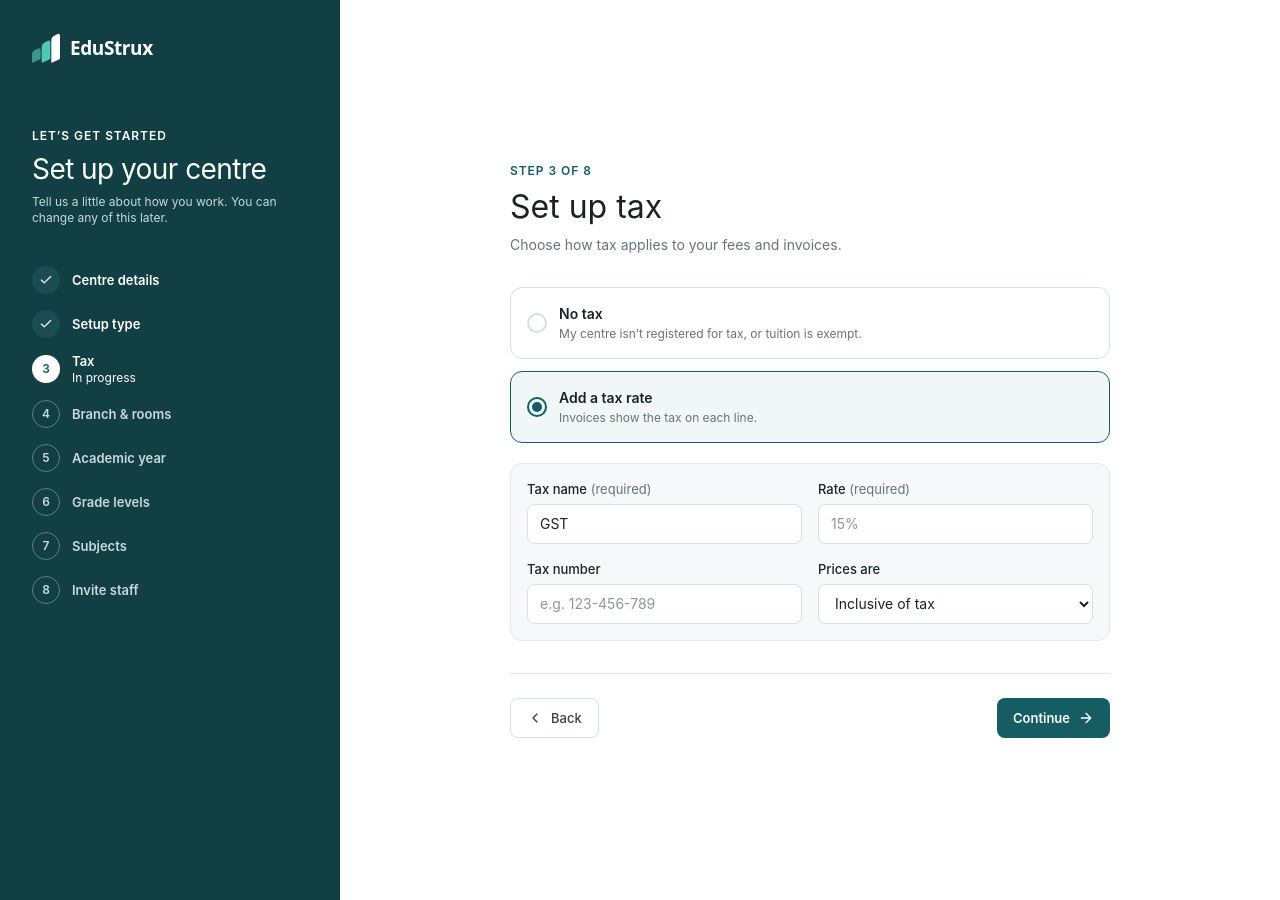
Test case: the setup wizard › adds the default tax rate and the tax number
Expected: the field labelled "Tax name (required)" holds "GST", x1=527 y1=504 x2=802 y2=544
Step 1. Type "lots" into the field labelled "Rate (required)" → (956, 524), box x1=818 y1=504 x2=1093 y2=544
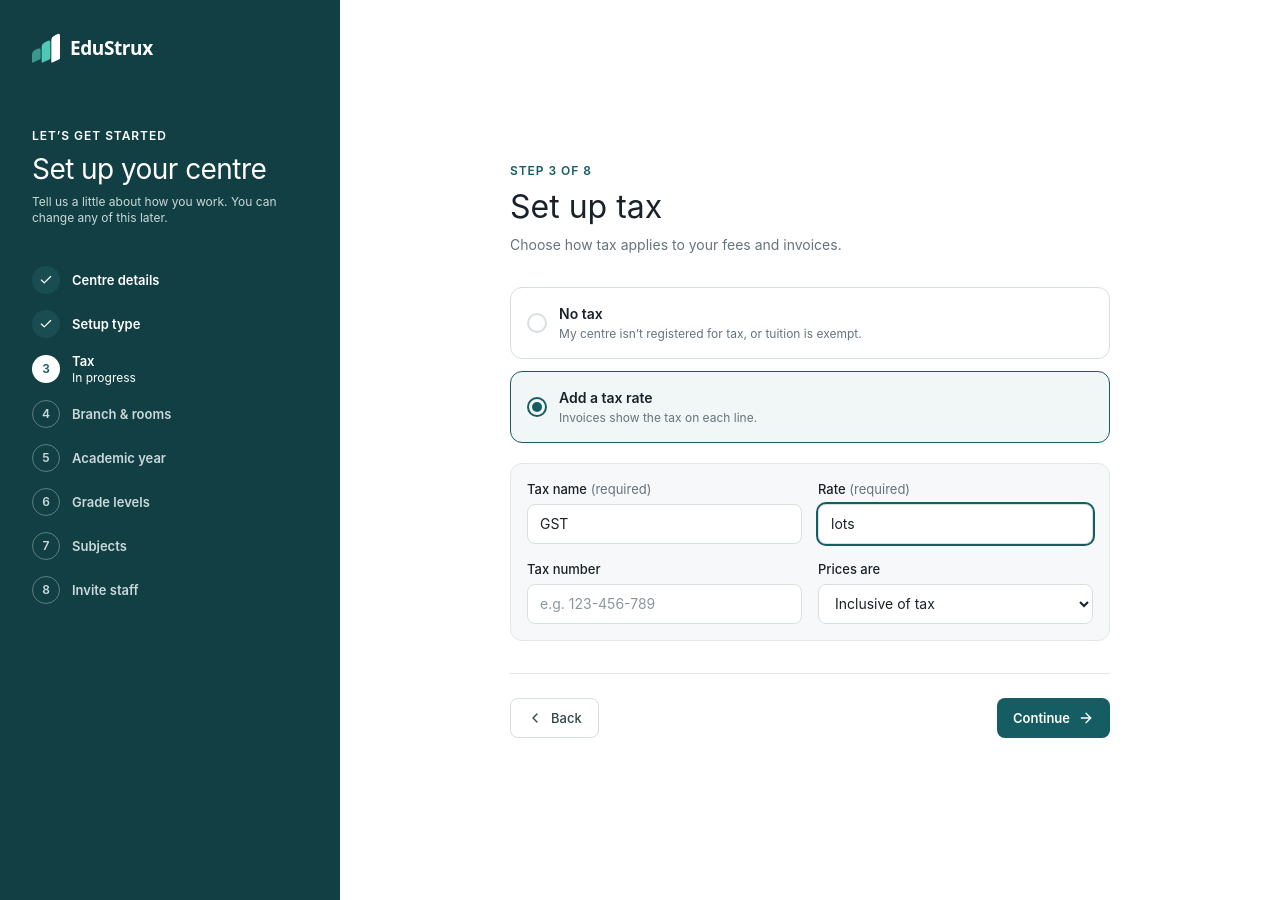
Step 2. Click the button "Continue" → (1054, 718), box x1=997 y1=698 x2=1110 y2=738
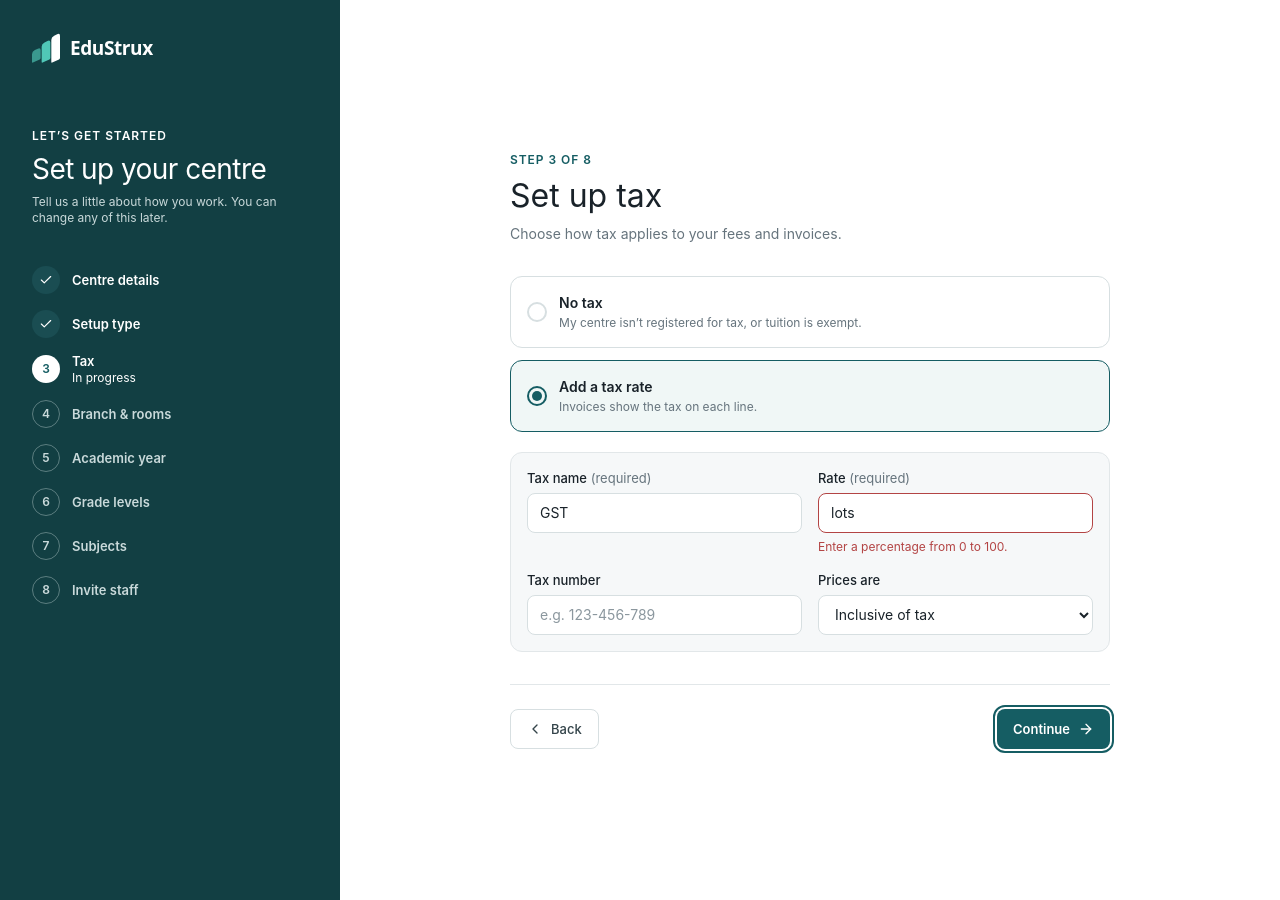
Expected: the text "Enter a percentage from 0 to 100." is shown, x1=818 y1=538 x2=1008 y2=554
Step 3. Replace the text in the field labelled "Rate (required)" with "15%" → (956, 512), box x1=818 y1=492 x2=1093 y2=532
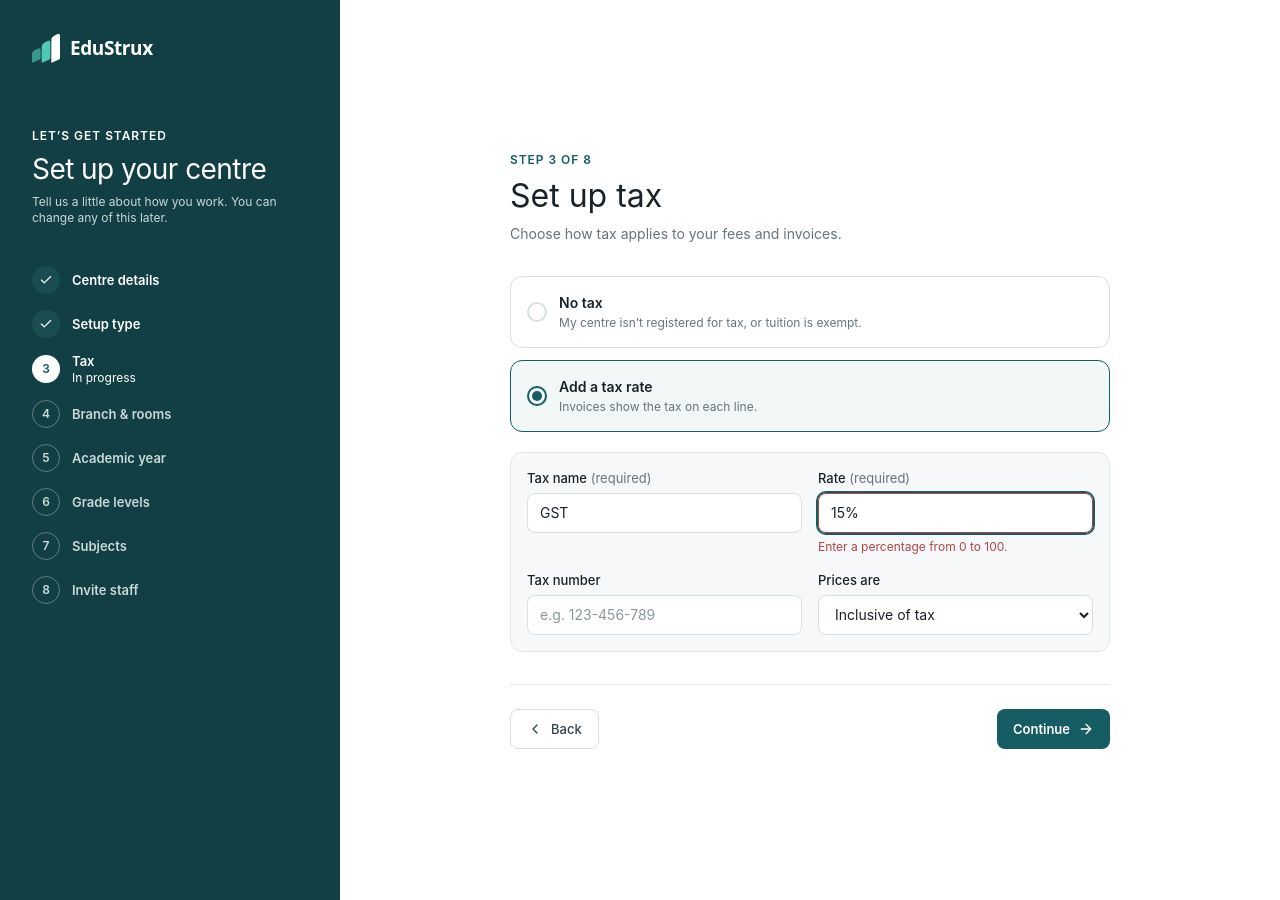
Step 4. Type "123-456-789" into the field labelled "Tax number" → (664, 614), box x1=527 y1=594 x2=802 y2=634
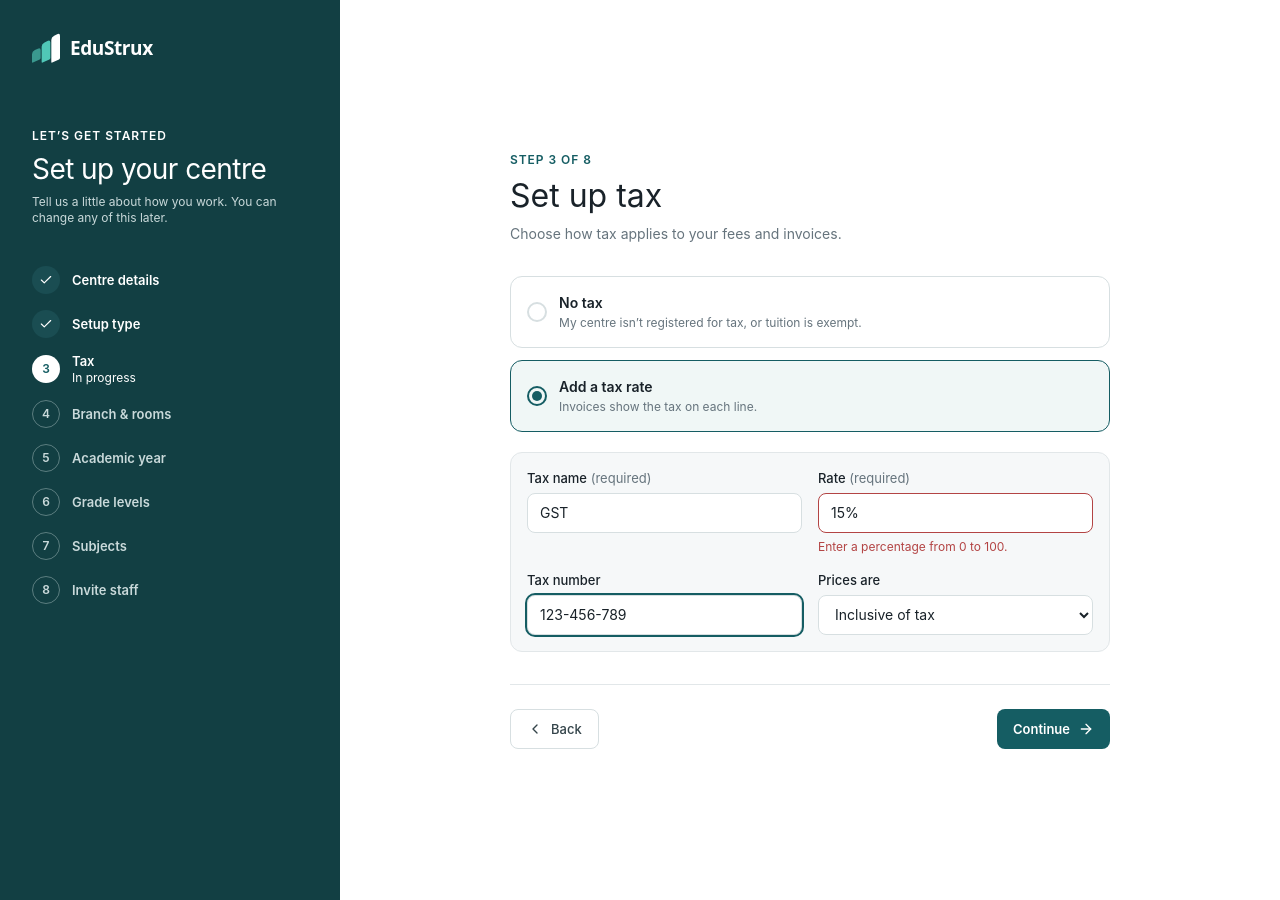
Step 5. Select "Plus tax" in the dropdown labelled "Prices are" → (956, 614), box x1=818 y1=594 x2=1093 y2=634
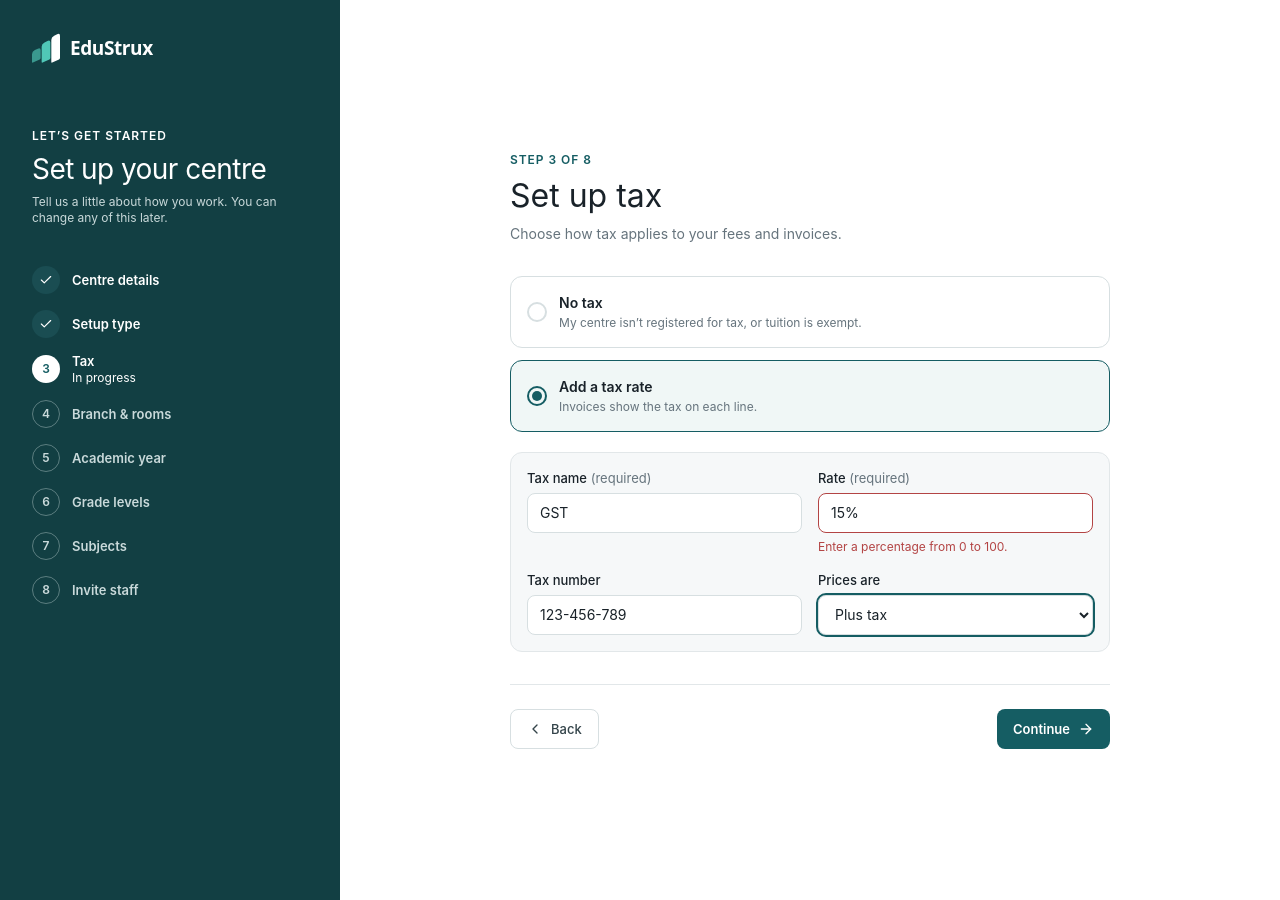
Step 6. Click the button "Continue" → (1054, 728), box x1=997 y1=708 x2=1110 y2=748
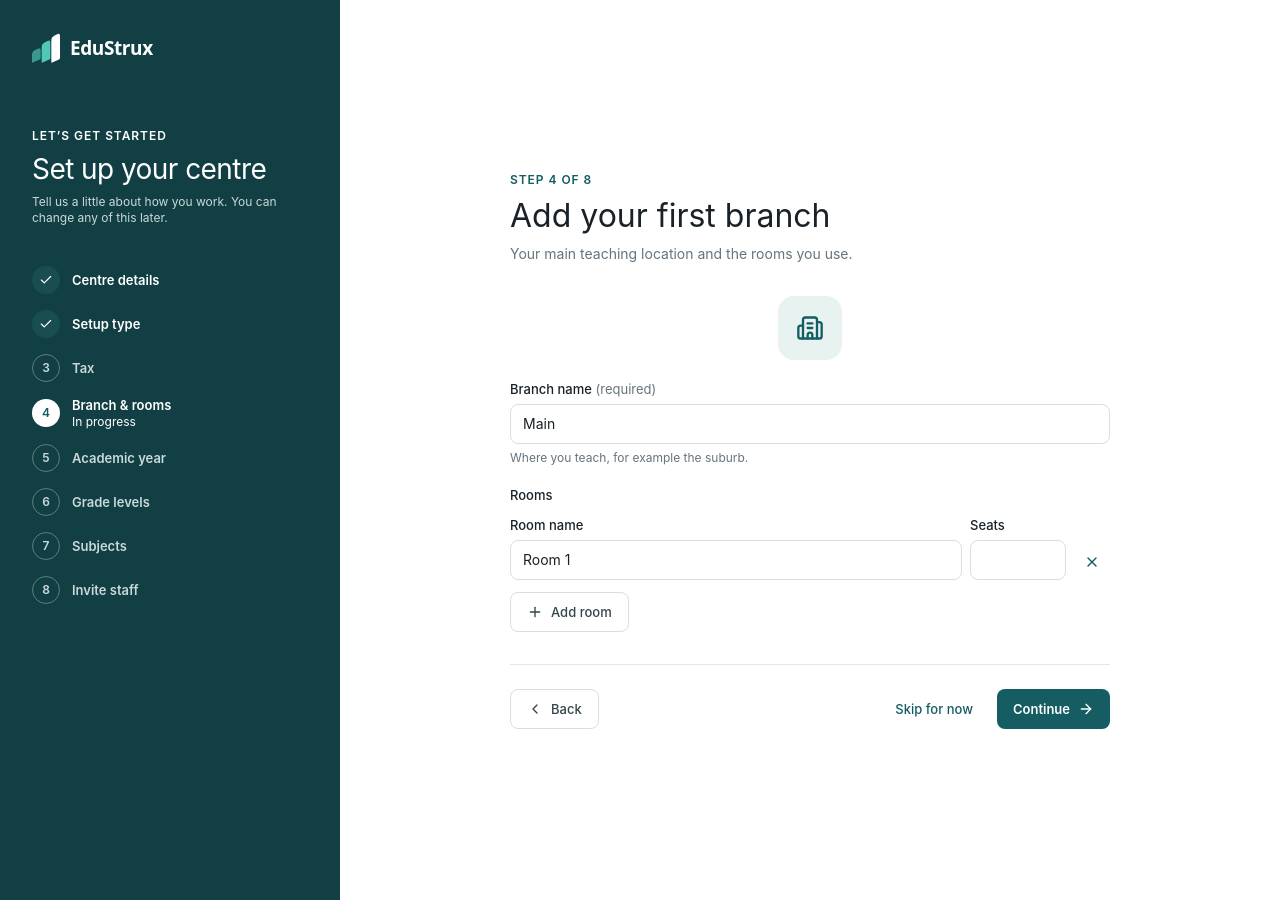
Expected: the heading "Add your first branch" is shown, x1=510 y1=196 x2=830 y2=234
